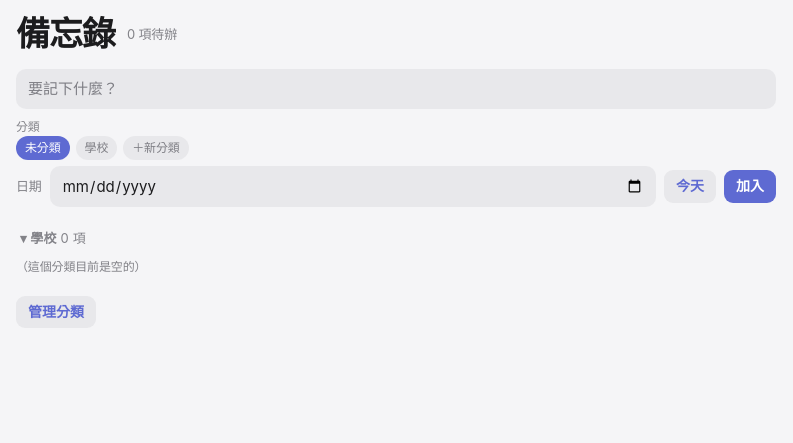
備忘錄分類新增失敗復原 › POST 已提交但回應遺失時重讀確認且不重送
The image size is (793, 443).
Click the text "＋新分類".
click(156, 148)  # box [123,136,189,160]
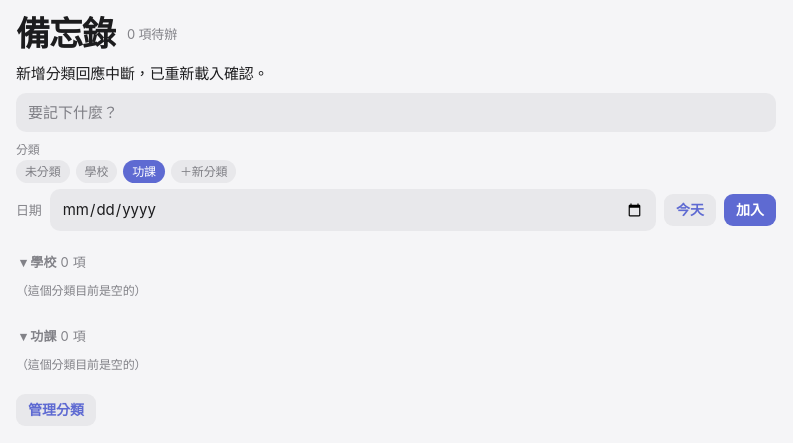
Result: the message shows "已重新載入確認" at [16,64,268,83]
Result: the text "功課" is shown at [123,160,165,183]
